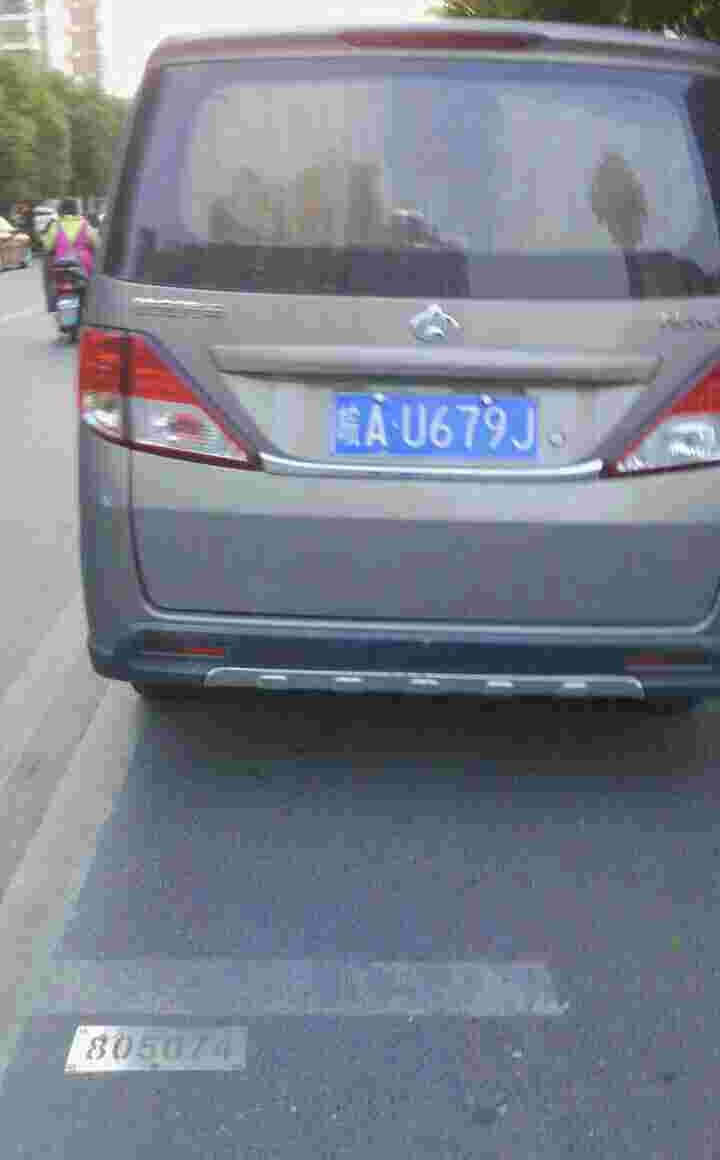license_plate: (336, 398, 544, 461)
